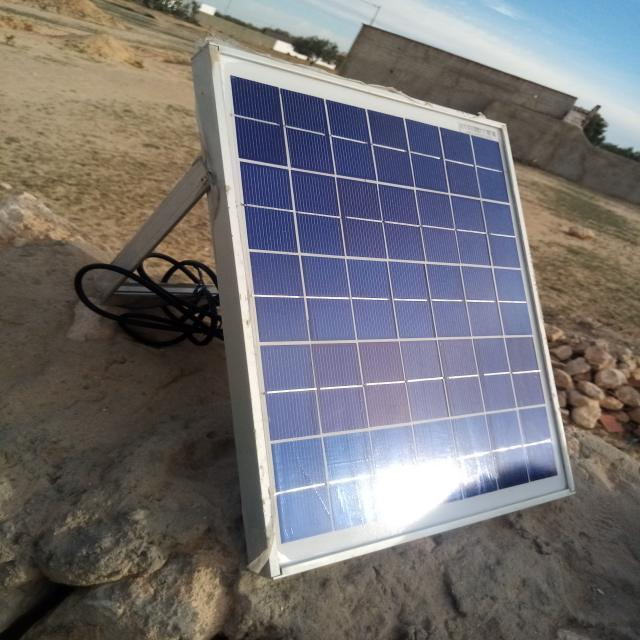Normal Solar Panel: (211, 49, 576, 577)
